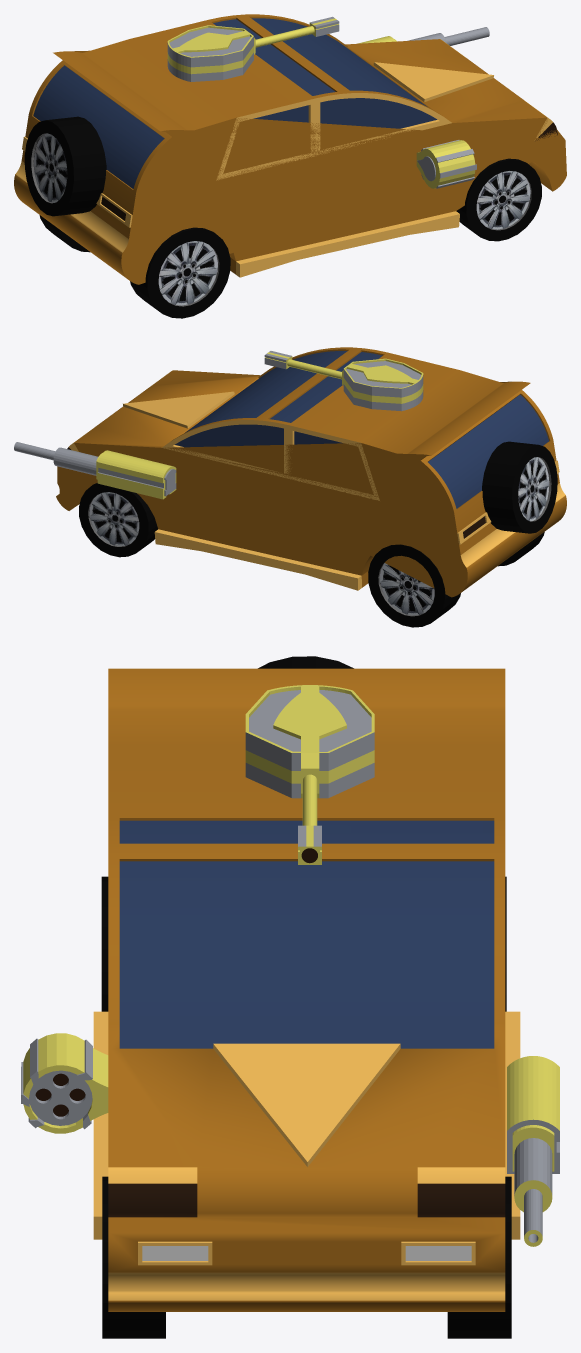
The model's file is Vertigo.obj.
The picture shows the model from 3 angles, top to bottom: view 1: azimuth 30°, elevation 25°; view 2: azimuth 150°, elevation 25°; view 3: azimuth 270°, elevation 25°; orthographic projection. The views are drawn at different scales.
Visible parts, largest first — view 1: Mesh1 Group3 Group2 Group1 Model, Mesh4 skpE90D1 Group1 Model, Mesh8 skpE90D3 Model, Mesh6 skpE90D2 Model, Mesh15 skp5F44_1 Model, Mesh3 skp2E1B1 Group2 Group1 Model, Mesh2 skp1F59_1 Group2 Group1 Model, Mesh14 skp5F44_1 Model, Mesh12 skpE90D5 Model; view 2: Mesh1 Group3 Group2 Group1 Model, Mesh4 skpE90D1 Group1 Model, Mesh12 skpE90D5 Model, Mesh10 skpE90D4 Model, Mesh15 skp5F44_1 Model, Mesh2 skp1F59_1 Group2 Group1 Model, Mesh14 skp5F44_1 Model; view 3: Mesh1 Group3 Group2 Group1 Model, Mesh15 skp5F44_1 Model, Mesh2 skp1F59_1 Group2 Group1 Model, Mesh3 skp2E1B1 Group2 Group1 Model, Mesh10 skpE90D4 Model, Mesh6 skpE90D2 Model, Mesh8 skpE90D3 Model, Mesh14 skp5F44_1 Model, Mesh4 skpE90D1 Group1 Model.
Part boxes in pixels (x1,y1,x2,y2): Mesh1 Group3 Group2 Group1 Model: [14, 14, 566, 284]; Mesh4 skpE90D1 Group1 Model: [24, 116, 106, 216]; Mesh8 skpE90D3 Model: [130, 227, 230, 318]; Mesh6 skpE90D2 Model: [456, 158, 541, 241]; Mesh15 skp5F44_1 Model: [167, 25, 314, 81]; Mesh3 skp2E1B1 Group2 Group1 Model: [416, 140, 476, 188]; Mesh2 skp1F59_1 Group2 Group1 Model: [358, 27, 489, 45]; Mesh14 skp5F44_1 Model: [309, 16, 339, 36]; Mesh12 skpE90D5 Model: [39, 215, 90, 252]; Mesh1 Group3 Group2 Group1 Model: [56, 347, 566, 597]; Mesh4 skpE90D1 Group1 Model: [482, 441, 557, 533]; Mesh12 skpE90D5 Model: [368, 544, 460, 627]; Mesh10 skpE90D4 Model: [79, 483, 157, 557]; Mesh15 skp5F44_1 Model: [287, 358, 423, 411]; Mesh2 skp1F59_1 Group2 Group1 Model: [14, 442, 176, 499]; Mesh14 skp5F44_1 Model: [264, 351, 292, 369]; Mesh1 Group3 Group2 Group1 Model: [93, 668, 520, 1311]; Mesh15 skp5F44_1 Model: [245, 685, 374, 825]; Mesh2 skp1F59_1 Group2 Group1 Model: [507, 1056, 559, 1246]; Mesh3 skp2E1B1 Group2 Group1 Model: [21, 1033, 108, 1133]; Mesh10 skpE90D4 Model: [447, 1176, 511, 1338]; Mesh6 skpE90D2 Model: [102, 1176, 165, 1338]; Mesh8 skpE90D3 Model: [101, 876, 108, 1011]; Mesh14 skp5F44_1 Model: [298, 825, 321, 864]; Mesh4 skpE90D1 Group1 Model: [258, 656, 353, 668].
Size of the model in its own units: 3.45 by 1.41 by 1.73.
